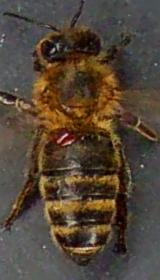varroa_mite: (47, 120, 86, 152)
